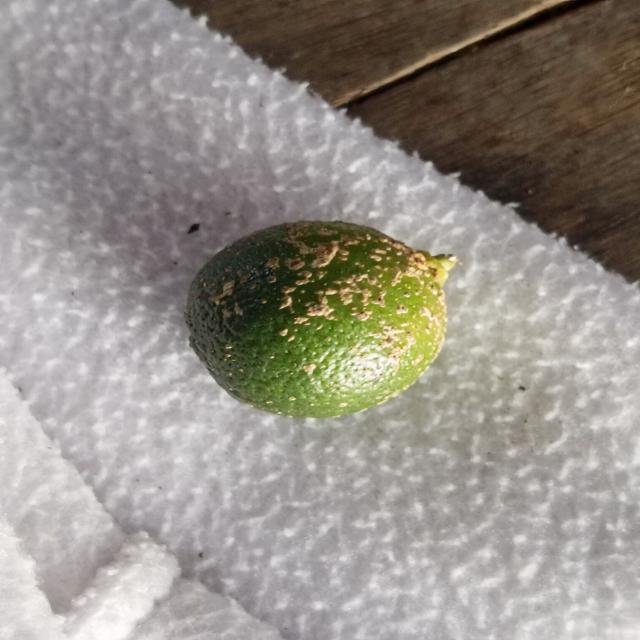scab: (185, 220, 455, 420)
